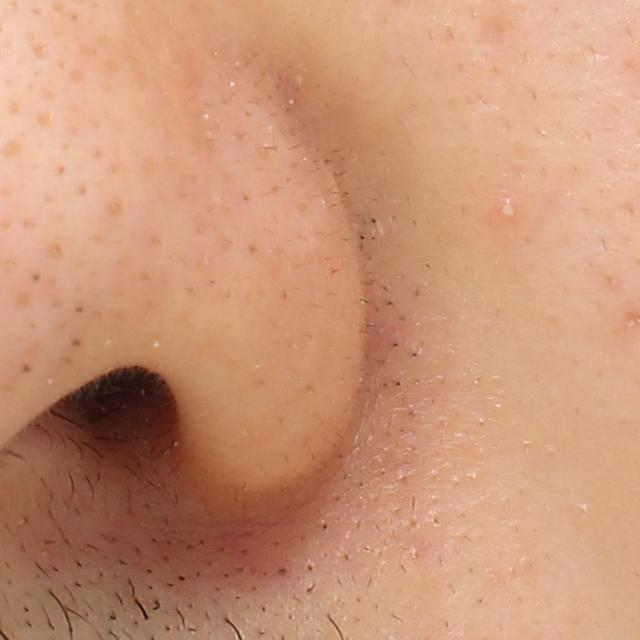pustule: (484, 190, 528, 224)
